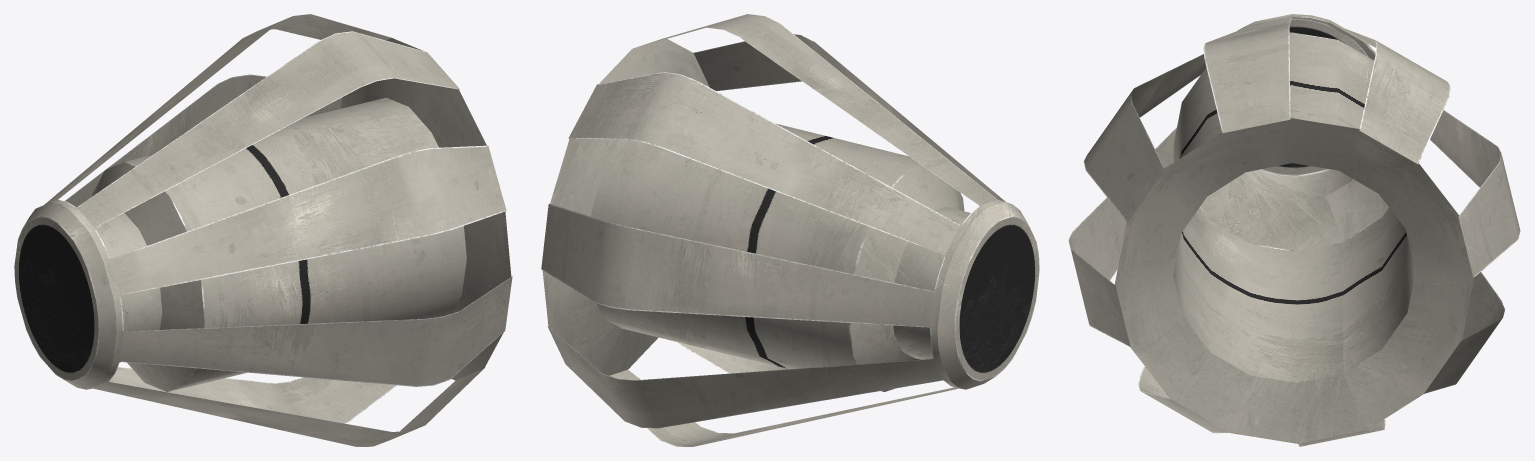
The model's file is pommel_14_c_d.glb.
The picture shows the model from 3 angles, left to right: view 1: azimuth 30°, elevation 25°; view 2: azimuth 150°, elevation 25°; view 3: azimuth 270°, elevation 25°; orthographic projection. The views are drawn at different scales.
Visible parts, largest first — view 1: pommel_14_c_d_lod0; view 2: pommel_14_c_d_lod0; view 3: pommel_14_c_d_lod0.
Part boxes in pixels (x1,y1,x2,y2): pommel_14_c_d_lod0: (14, 14, 512, 446); pommel_14_c_d_lod0: (541, 14, 1039, 446); pommel_14_c_d_lod0: (1068, 14, 1520, 446).
Size of what is drawn, in the model's own units: 0.0346 by 0.0358 by 0.0358.
Materials: 1 (1 with a texture image).
